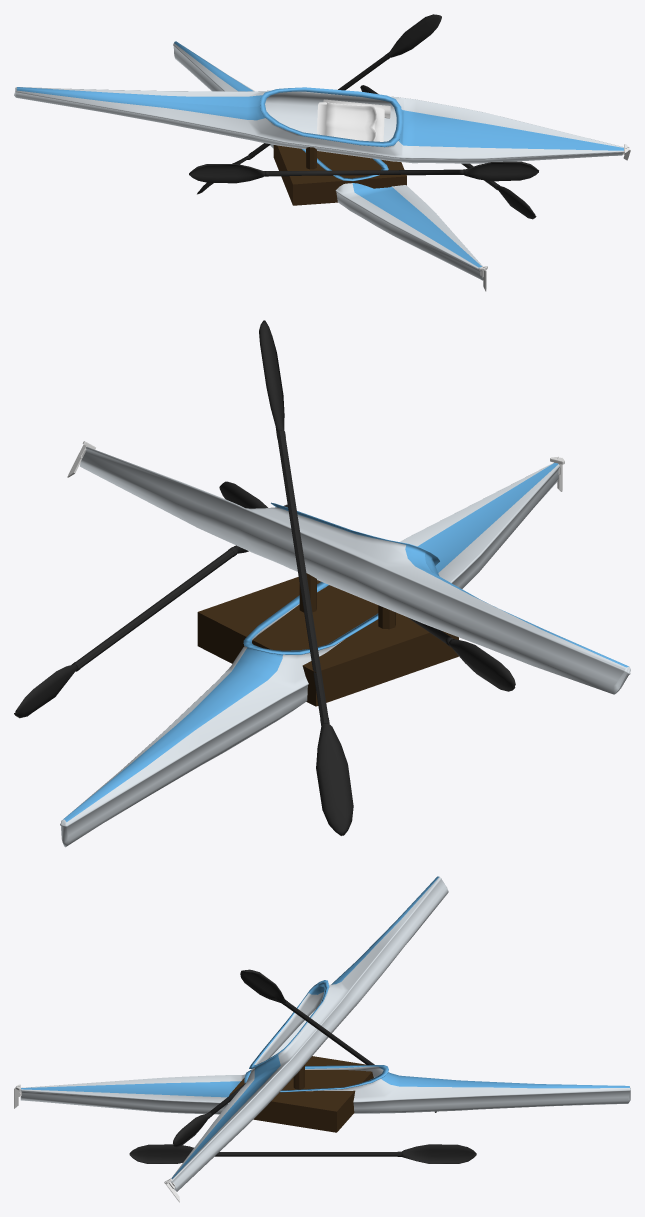
Rendered from greenAnt.fbx.
The picture shows the model from 3 angles, top to bottom: view 1: azimuth 30°, elevation 25°; view 2: azimuth 150°, elevation 25°; view 3: azimuth 270°, elevation 25°; orthographic projection. The views are drawn at different scales.
Parts seen in each view (by area): view 1: Cube.003, Cube.010, Cube, Cube.009, Plane.001, Cylinder.002, Cube.008, Cube.006, Cylinder.003, Cube.002; view 2: Cube.010, Cube, Cube.009, Cylinder.002, Cylinder, Cube.006, Cube.002; view 3: Cube, Cube.010, Cube.009, Cube.003, Cube.002, Cylinder.002, Cylinder, Cube.008.
Part boxes in pixels (box(x1,y1,x2,y2)): Cube.003: box(14, 88, 623, 163); Cube.010: box(15, 87, 623, 149); Cube: box(173, 41, 483, 280); Cube.009: box(273, 145, 406, 205); Plane.001: box(317, 99, 390, 141); Cylinder.002: box(197, 14, 441, 194); Cube.008: box(463, 161, 538, 181); Cube.006: box(189, 164, 264, 183); Cylinder.003: box(265, 169, 463, 176); Cube.002: box(360, 85, 536, 219); Cube.010: box(80, 447, 629, 694); Cube: box(60, 462, 560, 847); Cube.009: box(197, 573, 458, 706); Cylinder.002: box(259, 320, 353, 835); Cylinder: box(72, 547, 237, 670); Cube.006: box(449, 639, 515, 691); Cube.002: box(14, 504, 287, 718); Cube: box(20, 1065, 630, 1114); Cube.010: box(170, 876, 448, 1191); Cube.009: box(229, 1056, 373, 1132); Cube.003: box(171, 882, 431, 1191); Cube.002: box(129, 1144, 476, 1163); Cylinder.002: box(240, 969, 436, 1112); Cylinder: box(215, 1151, 401, 1156); Cube.008: box(173, 1113, 210, 1147).
Bounding box in the file's own units: 1135 × 483 × 1270.
